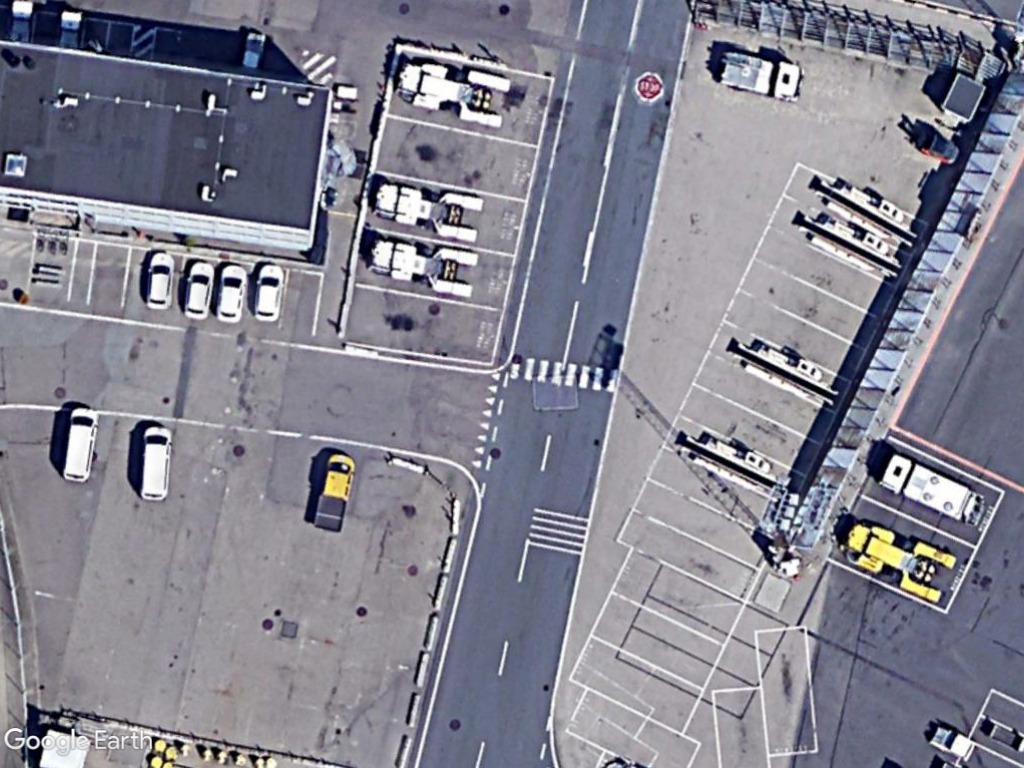car: (246, 259, 291, 328), (179, 253, 222, 323), (139, 242, 179, 316), (210, 259, 252, 325)
other: (309, 441, 365, 537)
pushbacktruck: (838, 514, 962, 607), (392, 50, 517, 134), (370, 173, 489, 249), (361, 230, 487, 300)
truck: (874, 444, 985, 525)
van: (133, 419, 179, 508), (58, 401, 101, 488)
